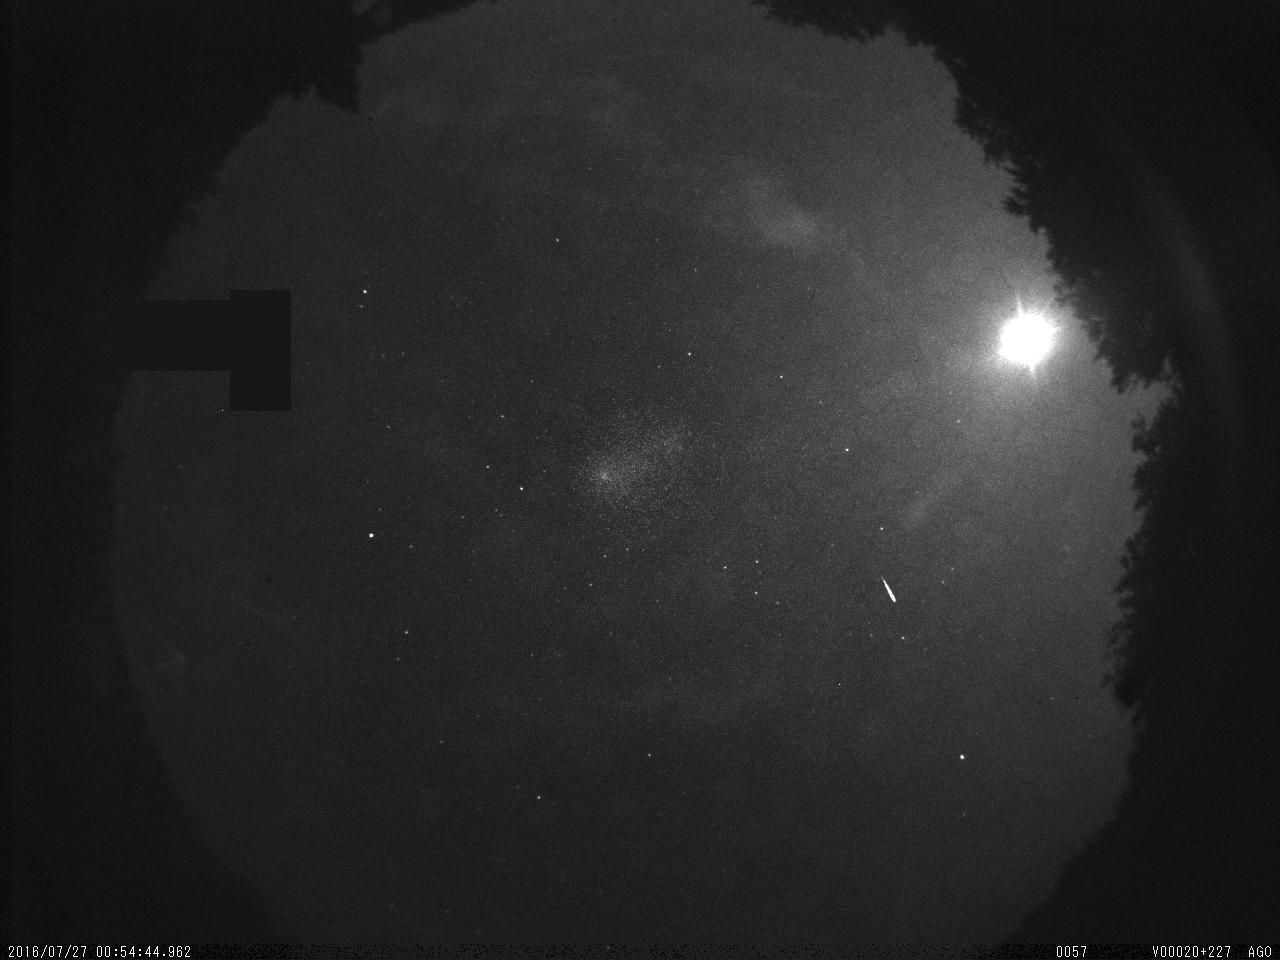meteor: (876, 570, 906, 611)
